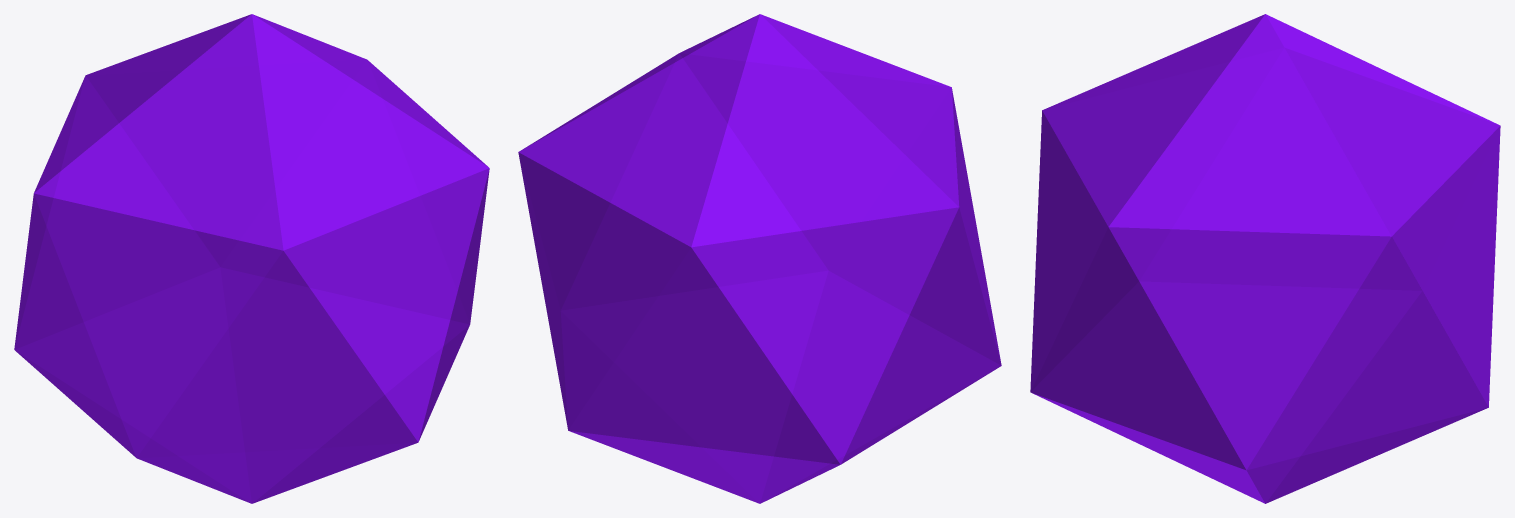
Rendered from water_essence.obj.
The picture shows the model from 3 angles, left to right: view 1: azimuth 30°, elevation 25°; view 2: azimuth 150°, elevation 25°; view 3: azimuth 270°, elevation 25°; orthographic projection.
Parts seen in each view (by area): view 1: r05; view 2: r05; view 3: r05.
Boxes of the visible parts, x1,y1,x2,y2 form: r05: [14, 14, 489, 503]; r05: [518, 14, 1001, 503]; r05: [1030, 14, 1500, 503].
Size of the model in its own units: 0.4458 by 0.5 by 0.4349.
